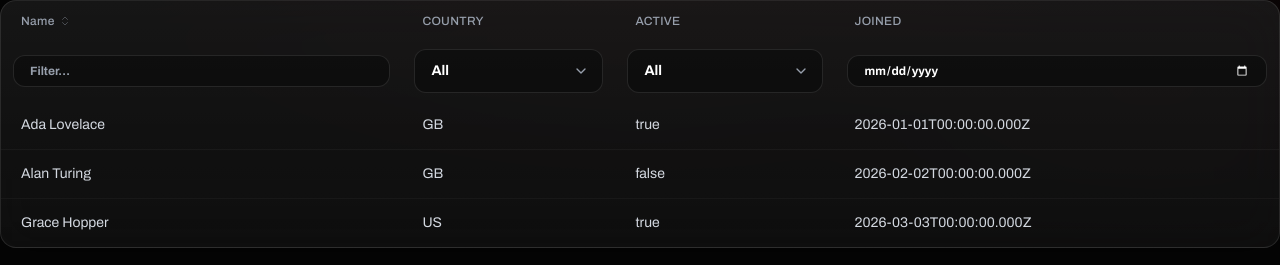
Test: DataTable › boolean filter matches Yes/No
This screenshot has width=1280, height=265.
Select "No" in the dropdown named "Filter Active": (725, 71) [627,49,822,93]
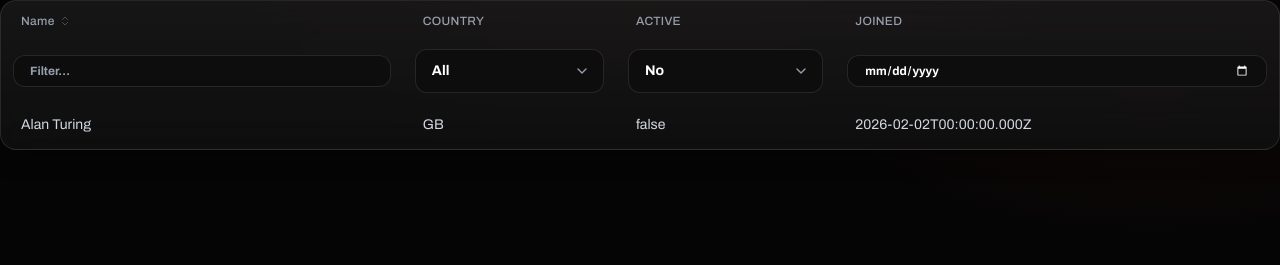
Expected: the text "Alan Turing" is shown, [1,101,403,149]
Expected: the text "Ada Lovelace" is gone
